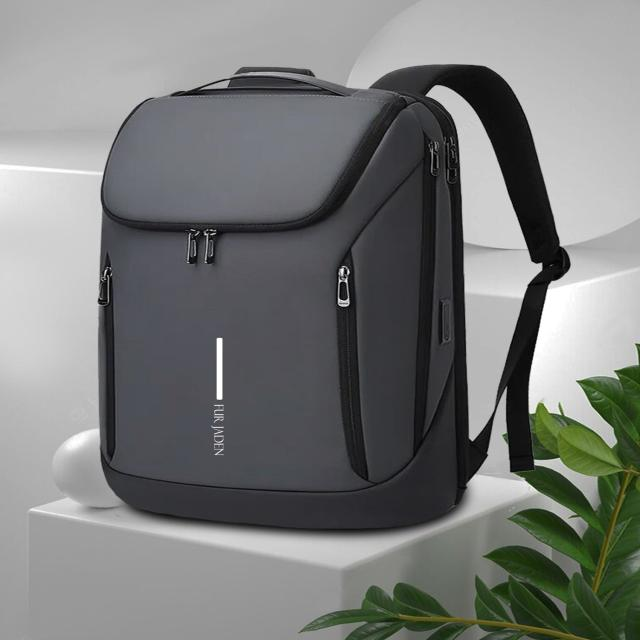backpack: (97, 64, 571, 532)
